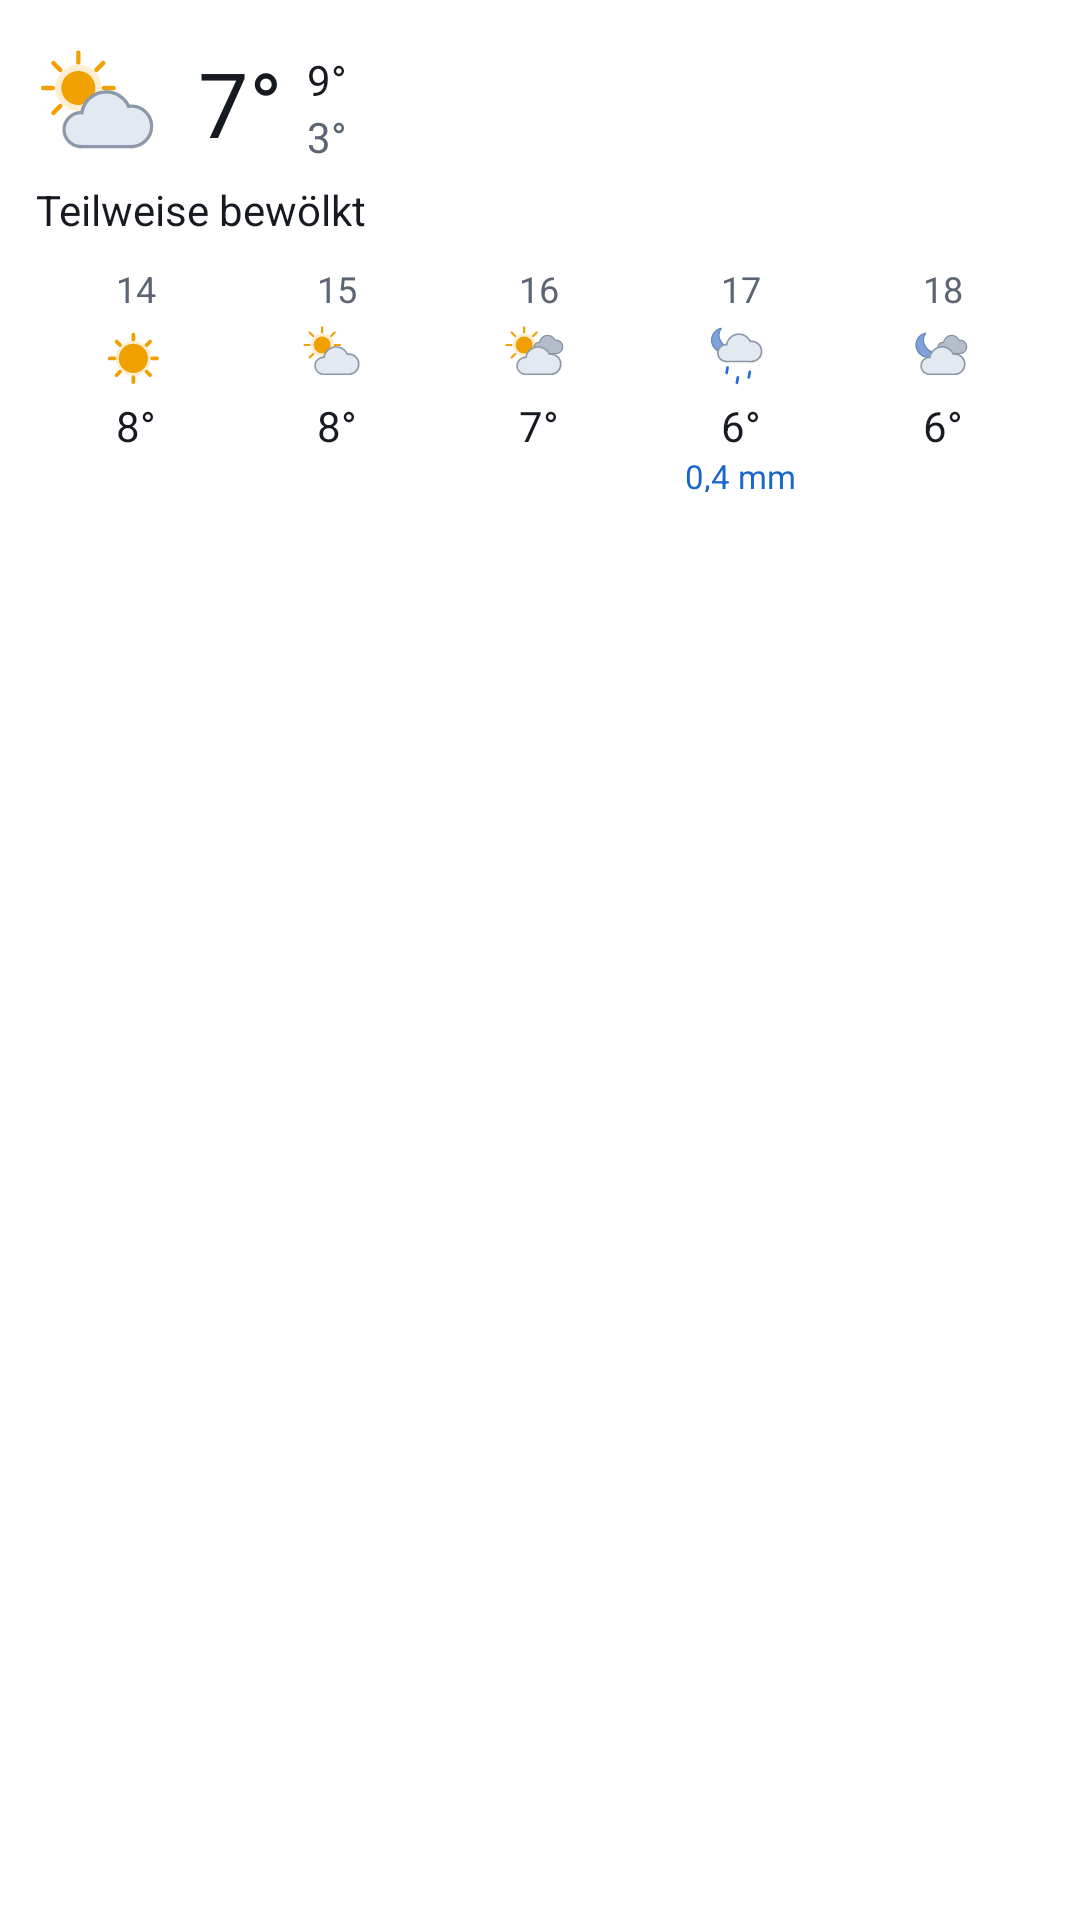

Icon bounding boxes for this 1080 × 1920 phone screenshot, format [left=x1, top=y1, right=x2, bottom=y2]:
weather cloudy day: [left=505, top=326, right=564, bottom=375]
weather cloudy night: [left=915, top=332, right=968, bottom=375]
weather partlycloudy day: [left=41, top=50, right=154, bottom=149], [left=303, top=326, right=360, bottom=375]
weather rainy night: [left=711, top=327, right=763, bottom=385]
weather sunny day: [left=107, top=332, right=159, bottom=384]
